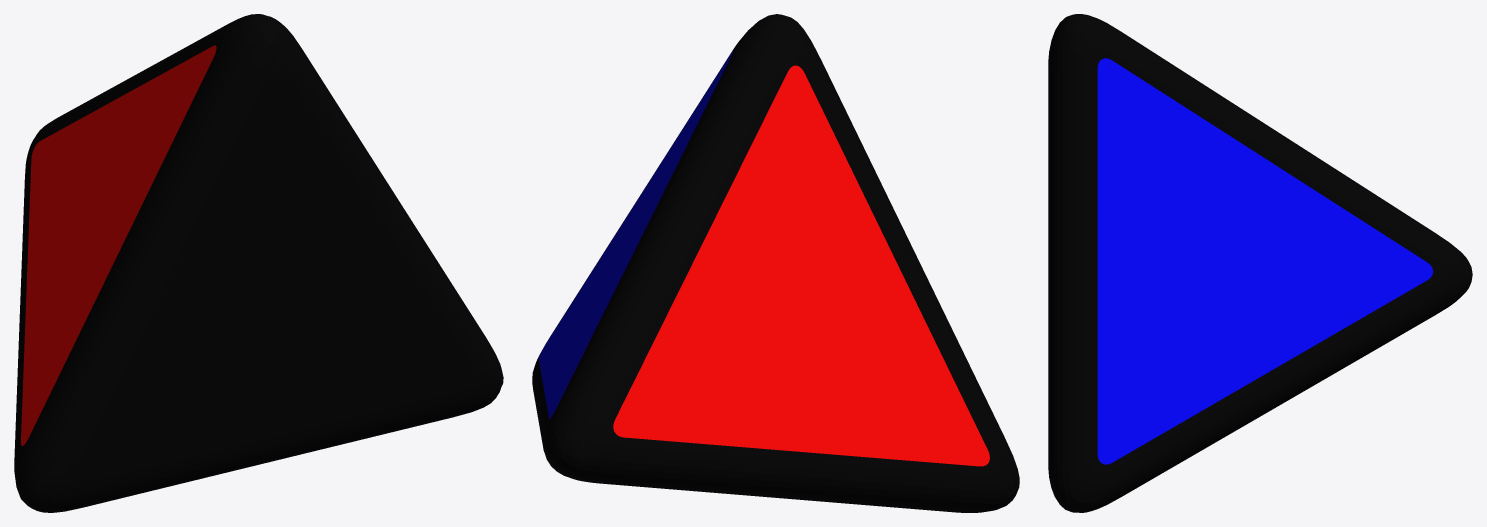
Rendered from t_bry.fbx.
3 views of the same model, side by side, from view 1: azimuth 30°, elevation 25°; view 2: azimuth 150°, elevation 25°; view 3: azimuth 270°, elevation 25° (orthographic). The views are drawn at different scales.
Parts seen in each view (by area): view 1: t_bry; view 2: t_bry; view 3: t_bry.
Part boxes in pixels (bbox=[...]): t_bry: bbox=[14, 14, 503, 512]; t_bry: bbox=[532, 14, 1019, 512]; t_bry: bbox=[1048, 14, 1472, 512].
Bounding box in the file's own units: 135 × 121 × 115.
